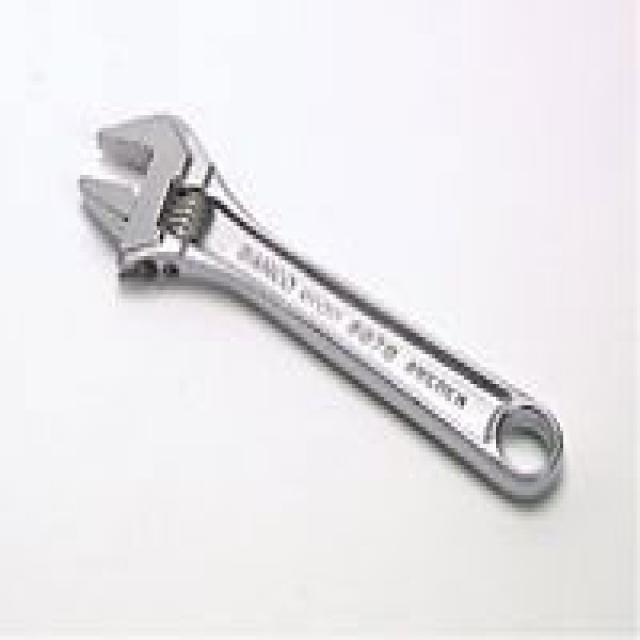wrench: (66, 81, 632, 594)
